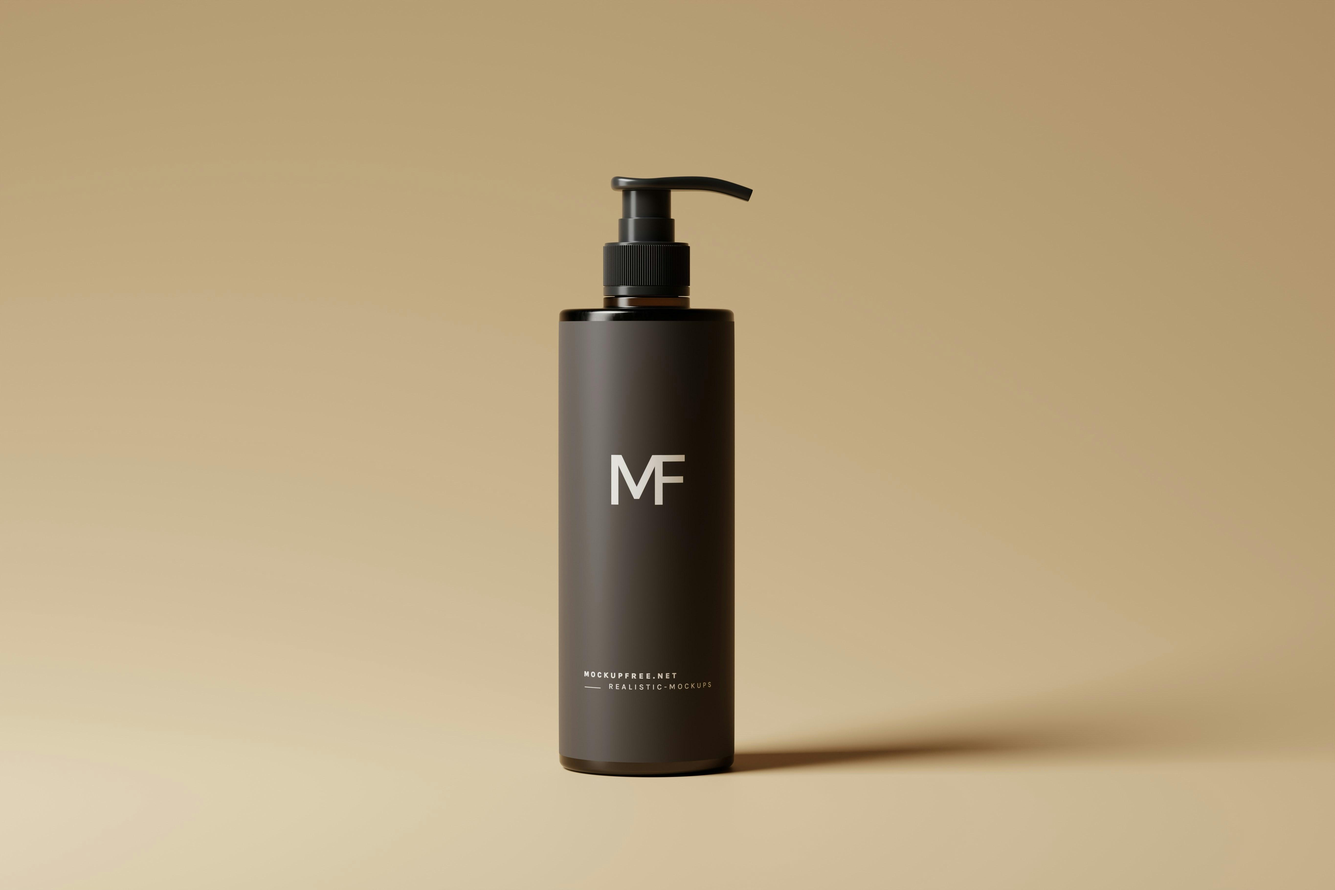Bottle-Detection: (447, 125, 853, 853)
